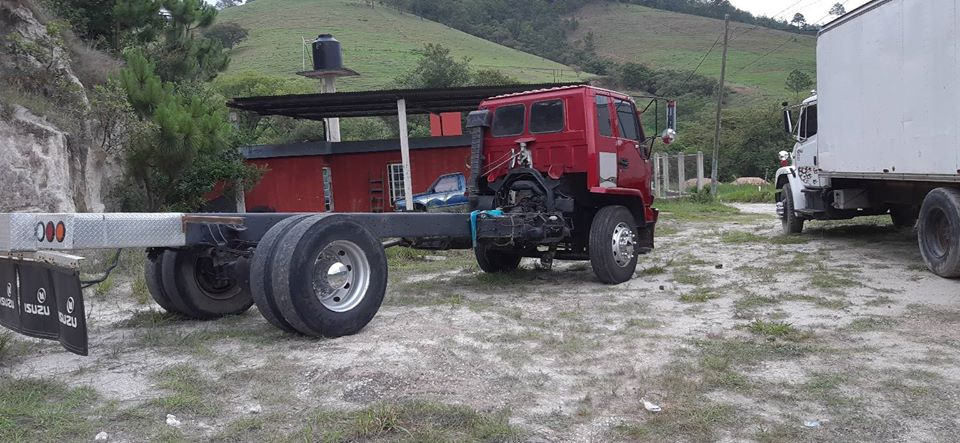camion: (3, 81, 678, 344), (762, 2, 960, 280)
